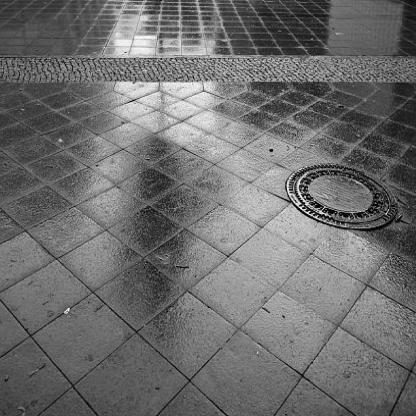manholes: (276, 145, 400, 253)
